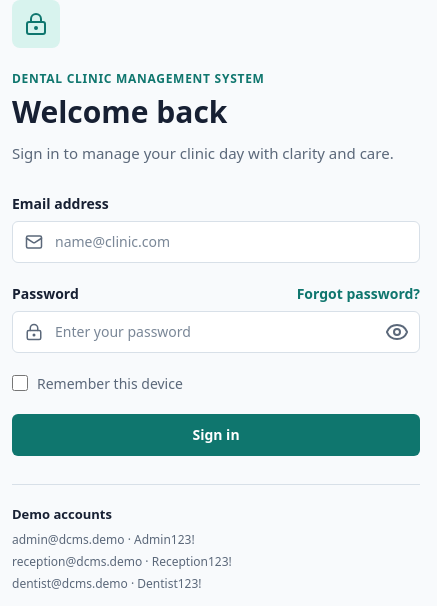
Test case: AUTH-01 & AUTH-02: Authentication & Login Form Validation › TEST-AUTH-02: shows MFA verification challenge when logging in as Admin
Type "admin@dcms.demo" into the field labelled "Email address" at (216, 242), box [12,220,420,262]
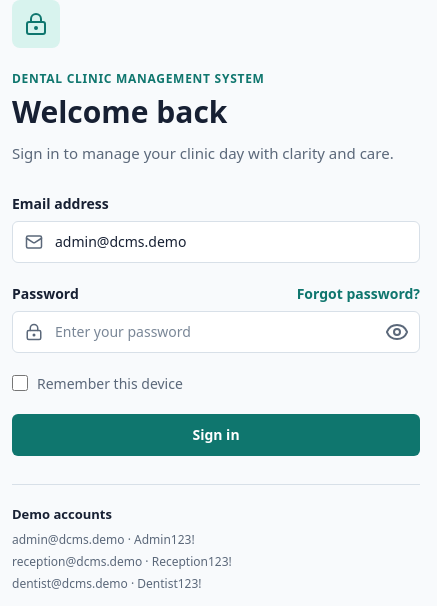
Type "Admin123!" into the password field labelled "Password" at (216, 332), box [12,310,420,352]
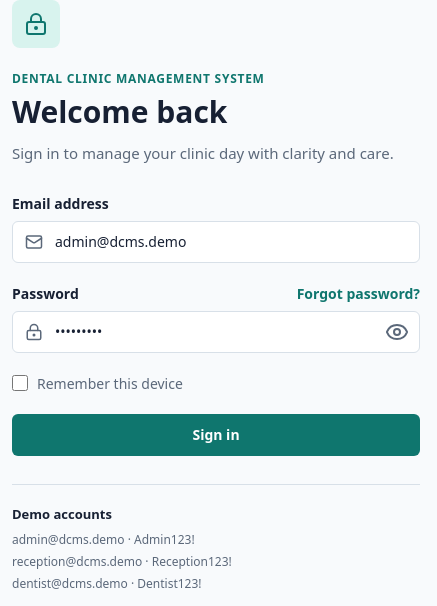
Click the button "Sign in" at (216, 434), box [12,414,420,456]
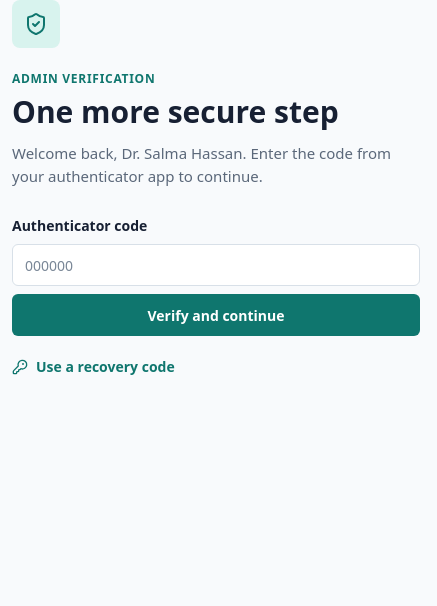
Expected: the heading "One more secure step" is shown, [12,91,339,132]
Expected: the field labelled "Authenticator code" is shown, [12,244,420,286]
Expected: the button "Verify and continue" is shown, [12,294,420,336]
